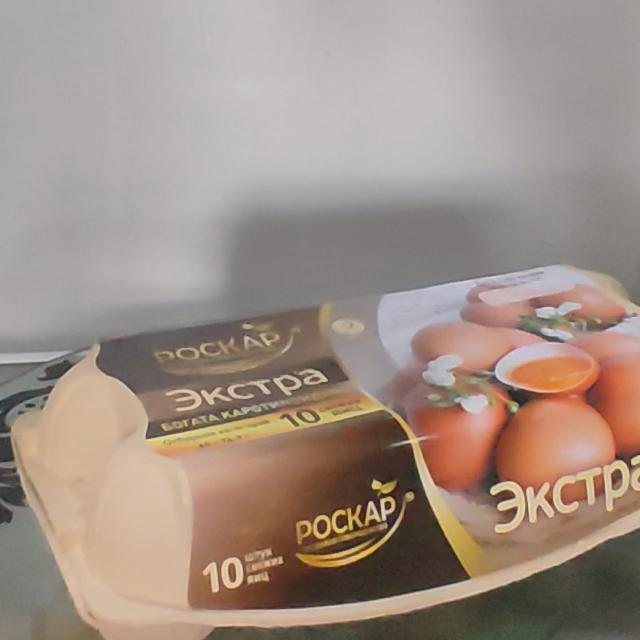egg: (33, 259, 640, 640)
